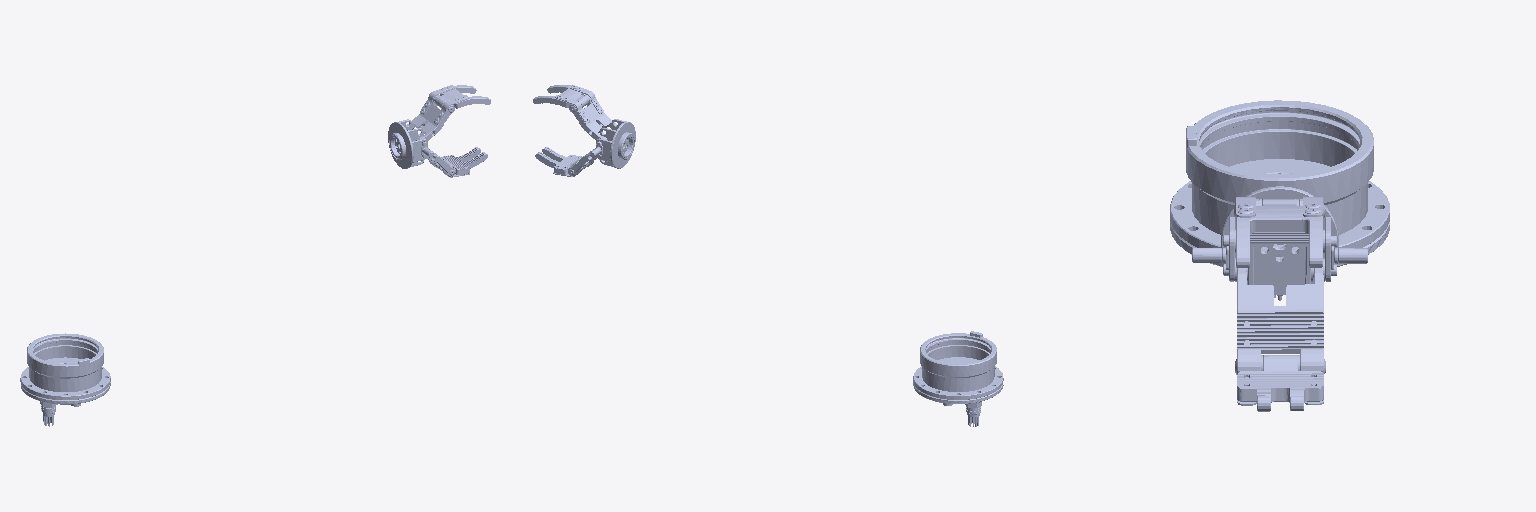
robot.urdf — arm_SDH_URDF:
<?xml version="1.0" encoding="utf-8"?>
<!-- This URDF was automatically created by SolidWorks to URDF Exporter! Originally created by [author] ([email redacted]) 
     Commit Version: 1.5.1-0-g916b5db  Build Version: 1.5.7152.31018
     For more information, please see http://wiki.ros.org/sw_urdf_exporter -->
<robot
  name="arm_SDH_URDF">
  <link
    name="base_link">
    <inertial>
      <origin xyz="-0.0016563 4.9408E-05 0.012674" rpy="0 0 0" />
      <mass value="0.18432" />
      <inertia
        ixx="0.00019069"
        ixy="5.773E-07"
        ixz="-8.3606E-06"
        iyy="0.00019301"
        iyz="1.2899E-06"
        izz="0.00029108" />
    </inertial>
    <visual>
      <origin xyz="0 0 0" rpy="0 0 0" />
      <geometry>
        <mesh filename="package://arm_SDH_URDF/meshes/base_link.STL" />
      </geometry>
      <material name="">
        <color rgba="0.79216 0.81961 0.93333 1" />
      </material>
    </visual>
    <collision>
      <origin xyz="0 0 0" rpy="0 0 0" />
      <geometry>
        <mesh filename="package://arm_SDH_URDF/meshes/base_link.STL" />
      </geometry>
    </collision>
  </link>
  <link
    name="Link_1">
    <inertial>
      <origin xyz="-0.00020652 0.017828 0.14762" rpy="0 0 0" />
      <mass value="1.4796" />
      <inertia
        ixx="0.007626"
        ixy="-1.1374E-05"
        ixz="-1.346E-05"
        iyy="0.0073197"
        iyz="-0.0013456"
        izz="0.0044936" />
    </inertial>
    <visual>
      <origin xyz="0 0 0" rpy="0 0 0" />
      <geometry>
        <mesh filename="package://arm_SDH_URDF/meshes/Link_1.STL" />
      </geometry>
      <material name="">
        <color rgba="0.79216 0.81961 0.93333 1" />
      </material>
    </visual>
    <collision>
      <origin xyz="0 0 0" rpy="0 0 0" />
      <geometry>
        <mesh filename="package://arm_SDH_URDF/meshes/Link_1.STL" />
      </geometry>
    </collision>
  </link>
  <joint name="joint_1" type="revolute">
    <origin xyz="0 0 0" rpy="0 0 0" />
    <parent link="base_link" />
    <child link="Link_1" />
    <axis xyz="0 0 -1" />
    <limit
      lower="-1.57"
      upper="1.57"
      effort="1"
      velocity="0.01" />
  </joint>
  <link name="Link_2">
    <inertial>
      <origin xyz="0.1249 0.0046826 0.030697" rpy="0 0 0" />
      <mass value="2.1441" />
      <inertia
        ixx="0.0058186"
        ixy="-0.00049188"
        ixz="4.5006E-07"
        iyy="0.01908"
        iyz="4.7873E-06"
        izz="0.017201" />
    </inertial>
    <visual>
      <origin xyz="0 0 0" rpy="0 0 0" />
      <geometry>
        <mesh
          filename="package://arm_SDH_URDF/meshes/Link_2.STL" />
      </geometry>
      <material name="">
        <color rgba="0.79216 0.81961 0.93333 1" />
      </material>
    </visual>
    <collision>
      <origin xyz="0 0 0" rpy="0 0 0" />
      <geometry>
        <mesh
          filename="package://arm_SDH_URDF/meshes/Link_2.STL" />
      </geometry>
    </collision>
  </link>
  <joint name="joint_2" type="revolute">
    <origin xyz="0 0 0.2035" rpy="1.5708 0 0" />
    <parent link="Link_1" />
    <child link="Link_2" />
    <axis xyz="0 0 -1" />
    <limit
      lower="-3.14"
      upper="0"
      effort="1"
      velocity="0.01" />
  </joint>
  <link name="Link_3">
    <inertial>
      <origin xyz="0.10895 -0.0020612 -0.0095917" rpy="0 0 0" />
      <mass value="2.5757" />
      <inertia
        ixx="0.0074505"
        ixy="0.00024688"
        ixz="-0.0026387"
        iyy="0.020603"
        iyz="4.931E-05"
        izz="0.01965" />
    </inertial>
    <visual>
      <origin xyz="0 0 0" rpy="0 0 0" />
      <geometry>
        <mesh filename="package://arm_SDH_URDF/meshes/Link_3.STL" />
      </geometry>
      <material name="">
        <color rgba="0.79216 0.81961 0.93333 1" />
      </material>
    </visual>
    <collision>
      <origin xyz="0 0 0" rpy="0 0 0" />
      <geometry>
        <mesh filename="package://arm_SDH_URDF/meshes/Link_3.STL" />
      </geometry>
    </collision>
  </link>
  <joint name="joint_3" type="revolute">
    <origin xyz="0.24983 0.0092539 0" rpy="0 0 0.037024" />
    <parent link="Link_2" />
    <child link="Link_3" />
    <axis xyz="0 0 -1" />
    <limit
      lower="-1.57"
      upper="1.57"
      effort="1"
      velocity="0.01" />
  </joint>
  <link name="Link_4">
    <inertial>
      <origin xyz="6.4906E-13 -7.7829E-14 0.23866" rpy="0 0 0" />
      <mass value="0.024876" />
      <inertia
        ixx="1.111E-05"
        ixy="-2.3027E-08"
        ixz="-1.7507E-16"
        iyy="5.8629E-06"
        iyz="2.0983E-17"
        izz="1.2834E-05" />
    </inertial>
    <visual>
      <origin xyz="0 0 0" rpy="0 0 0" />
      <geometry>
        <mesh filename="package://arm_SDH_URDF/meshes/Link_4.STL" />
      </geometry>
      <material name="">
        <color rgba="0.79216 0.81961 0.93333 1" />
      </material>
    </visual>
    <collision>
      <origin xyz="0 0 0" rpy="0 0 0" />
      <geometry>
        <mesh filename="package://arm_SDH_URDF/meshes/Link_4.STL" />
      </geometry>
    </collision>
  </link>
  <joint  name="joint_4" type="revolute">
    <origin xyz="0 0 0" rpy="1.5708 0 1.5533" />
    <parent link="Link_3" />
    <child link="Link_4" />
    <axis xyz="0 0 -1" />
    <limit
      lower="-3.14"
      upper="3.14"
      effort="1"
      velocity="0.01" />
  </joint>
  <link name="Link_end">
    <inertial>
      <origin xyz="-0.03677 0.0033757 -0.33339" rpy="0 0 0" />
      <mass value="0.001" />
      <inertia
        ixx="9.1165E-06"
        ixy="-5.972E-06"
        ixz="-5.0149E-09"
        iyy="1.8886E-05"
        iyz="-2.0789E-09"
        izz="1.8059E-05" />
    </inertial>
    <visual>
      <origin xyz="0 0 0" rpy="0 0 0" />
      <material name="">
        <color rgba="1 1 1 1" />
      </material>
    </visual>
    <collision>
      <origin xyz="0 0 0" rpy="0 0 0" />
    </collision>
  </link>
  <joint name="joint_end" type="fixed">
    <origin xyz="0 0 0.255499999999989" rpy="0 0 0" />
    <parent link="Link_4" />
    <child link="Link_end" />
    <axis xyz="0 0 0" />
  </joint>
  <link name="gripper1">
    <inertial>
      <origin xyz="0.042958 0.044269 6.6046E-06" rpy="0 0 0" />
      <mass value="0.0291" />
      <inertia
        ixx="9.1165E-06"
        ixy="-5.972E-06"
        ixz="-5.0149E-09"
        iyy="1.8886E-05"
        iyz="-2.0789E-09"
        izz="1.8059E-05" />
    </inertial>
    <visual>
      <origin xyz="0 0 0" rpy="0 0 0" />
      <geometry>
        <mesh filename="package://arm_SDH_URDF/meshes/gripper1.STL" />
      </geometry>
      <material  name="">
        <color
          rgba="0.79216 0.81961 0.93333 1" />
      </material>
    </visual>
    <collision>
      <origin xyz="0 0 0" rpy="0 0 0" />
      <geometry>
        <mesh filename="package://arm_SDH_URDF/meshes/gripper1.STL" />
      </geometry>
    </collision>
  </link>
  <joint name="gripper1_joint" type="revolute">
    <origin xyz="0.0079999 -3.5107E-05 0.2495" rpy="1.5752 -1.5708 0" />
    <parent link="Link_4" />
    <child link="gripper1" />
    <axis xyz="0 0 -1" />
    <limit
      lower="-0.523"
      upper="0"
      effort="1"
      velocity="0.01" />
  </joint>
  <link name="gripper2">
    <inertial>
      <origin xyz="0.043012 -0.044199 -1.118E-08" rpy="0 0 0" />
      <mass value="0.029111" />
      <inertia
        ixx="1.004E-05"
        ixy="5.9581E-06"
        ixz="8.1564E-10"
        iyy="1.985E-05"
        iyz="-1.7785E-10"
        izz="1.8062E-05" />
    </inertial>
    <visual>
      <origin xyz="0 0 0" rpy="0 0 0" />
      <geometry>
        <mesh filename="package://arm_SDH_URDF/meshes/gripper2.STL" />
      </geometry>
      <material name="">
        <color rgba="0.79216 0.81961 0.93333 1" />
      </material>
    </visual>
    <collision>
      <origin xyz="0 0 0" rpy="0 0 0" />
      <geometry>
        <mesh filename="package://arm_SDH_URDF/meshes/gripper2.STL" />
      </geometry>
    </collision>
  </link>
  <joint name="gripper2_joint" type="revolute">
    <origin xyz="-0.0079999 3.5107E-05 0.2495" rpy="1.5752 -1.5708 0" />
    <parent link="Link_4" />
    <child link="gripper2" />
    <axis xyz="0 0 -1" />
    <limit
      lower="0"
      upper="0.523"
      effort="1"
      velocity="0.01" />
  </joint>
</robot>

--- Facts derived from the render (not from the file) ---
3 views of the same robot in one strip: view 1: azimuth 30°, elevation 25°; view 2: azimuth 150°, elevation 25°; view 3: azimuth 270°, elevation 25° (orthographic).
Model arm_SDH_URDF with 8 links and 7 joints (6 revolute, 1 fixed), rooted at base_link, posed all joints at 0.
Visible links, largest first — view 1: base_link, gripper2, Link_4, gripper1; view 2: base_link, gripper2, Link_4, gripper1; view 3: base_link, gripper1, Link_4, gripper2.
Link boxes in pixels (x1,y1,x2,y2): base_link: (20, 333, 110, 426); gripper2: (406, 85, 490, 140); Link_4: (388, 119, 433, 168); gripper1: (426, 147, 487, 177); base_link: (913, 331, 1003, 426); gripper2: (533, 85, 616, 139); Link_4: (590, 119, 635, 168); gripper1: (535, 147, 596, 176); base_link: (1170, 100, 1389, 300); gripper1: (1235, 267, 1325, 411); Link_4: (1192, 186, 1367, 295); gripper2: (1234, 197, 1324, 267).
Size in the robot's own frame: 0.6557 by 0.1119 by 0.3209 metres.
Meshes: 7 distinct files referenced, 4 mesh visuals loaded (4 binary STL); not drawn: 3 (reference not matched to a file when rendering).